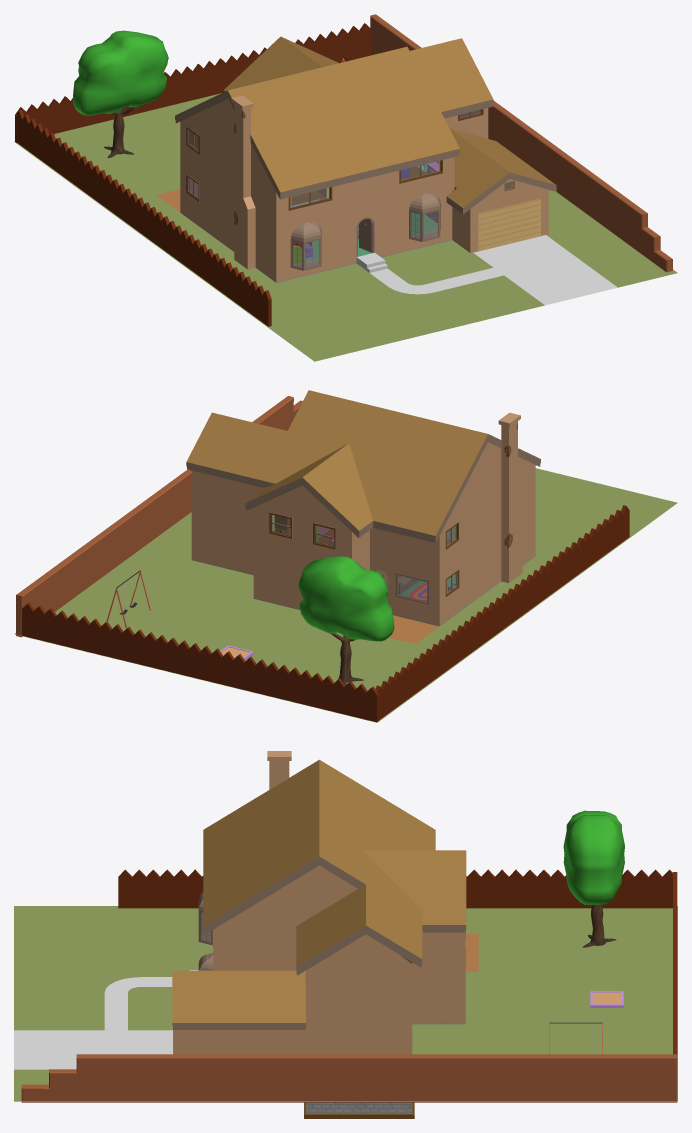
The model's file is casa simpsons.fbx.
3 views of the same model, one above another, from view 1: azimuth 30°, elevation 25°; view 2: azimuth 150°, elevation 25°; view 3: azimuth 270°, elevation 25° (orthographic). The views are drawn at different scales.
Parts seen in each view (by area): view 1: _G-Object.001 (Loose Mesh), G-Object, _G-Object.051 (Loose Mesh), _G-Object.004 (Loose Mesh), Cube.001, G_muro.001, Cube.003, G_arbol.001, _G-Object.051 (Loose Mesh).001, G-Object.071, G-Object.070, G_tronco.001 (+2 smaller); view 2: _G-Object.001 (Loose Mesh), G-Object, _G-Object.051 (Loose Mesh), _G-Object.004 (Loose Mesh), Cube.003, Cube.001, G_muro.001, G_arbol.001, G-Object.072, G_tronco.001, G-Object.039, G-Object.044; view 3: _G-Object.001 (Loose Mesh), G-Object, G_muro.001, _G-Object.004 (Loose Mesh), _G-Object.051 (Loose Mesh), Cube.001, G_arbol.001, _G-Object.046 (Loose Mesh), Cube.003, G_tronco.001, G-Object.002.
Part boxes in pixels (box(x1,y1,x2,y2)): _G-Object.001 (Loose Mesh): box(14, 93, 677, 361); G-Object: box(175, 36, 556, 214); _G-Object.051 (Loose Mesh): box(180, 95, 548, 282); _G-Object.004 (Loose Mesh): box(180, 108, 488, 233); Cube.001: box(16, 110, 271, 326); G_muro.001: box(370, 14, 672, 272); Cube.003: box(15, 23, 371, 142); G_arbol.001: box(73, 30, 168, 115); _G-Object.051 (Loose Mesh).001: box(478, 198, 540, 251); G-Object.071: box(409, 193, 440, 241); G-Object.070: box(290, 222, 321, 270); G_tronco.001: box(104, 107, 134, 158); _G-Object.001 (Loose Mesh): box(14, 468, 677, 722); G-Object: box(186, 390, 540, 542); _G-Object.051 (Loose Mesh): box(191, 412, 535, 625); _G-Object.004 (Loose Mesh): box(191, 463, 535, 576); Cube.003: box(22, 602, 378, 722); Cube.001: box(375, 505, 629, 720); G_muro.001: box(16, 396, 302, 637); G_arbol.001: box(298, 556, 394, 641); G-Object.072: box(395, 572, 428, 604); G_tronco.001: box(331, 633, 363, 685); G-Object.039: box(269, 512, 292, 538); G-Object.044: box(313, 523, 335, 549); _G-Object.001 (Loose Mesh): box(14, 906, 677, 1101); G-Object: box(172, 759, 466, 1029); G_muro.001: box(21, 1054, 677, 1102); _G-Object.004 (Loose Mesh): box(213, 923, 465, 1016); _G-Object.051 (Loose Mesh): box(173, 751, 465, 1054); Cube.001: box(118, 869, 672, 908); G_arbol.001: box(563, 810, 624, 904); _G-Object.046 (Loose Mesh): box(304, 1023, 465, 1118); Cube.003: box(673, 872, 677, 1054); G_tronco.001: box(582, 904, 616, 947); G-Object.002: box(590, 991, 623, 1007).
Size of the model in its own units: 12130 by 6497 by 17380.
